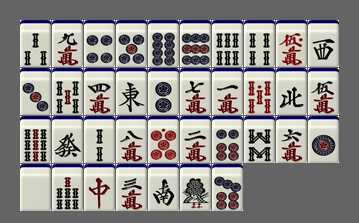0m: (276, 20, 307, 67)
0p: (148, 116, 179, 163)
0s: (244, 68, 275, 115)
1m: (212, 68, 243, 115)
1p: (308, 116, 339, 163)
1s: (180, 164, 211, 211)
1z: (116, 68, 147, 115)
2m: (180, 116, 211, 163)
2p: (148, 68, 179, 115)
2s: (84, 116, 115, 163)
2z: (148, 164, 179, 211)
3m: (116, 164, 147, 211)
3p: (20, 68, 51, 115)
3s: (20, 20, 51, 67)
3z: (308, 20, 339, 67)
4m: (84, 68, 115, 115)
4p: (84, 20, 115, 67)
4s: (244, 20, 275, 67)
4z: (276, 68, 307, 115)
5m: (308, 68, 339, 115)
5p: (116, 20, 147, 67)
5s: (52, 68, 83, 115)
5z: (20, 164, 51, 211)
6m: (276, 116, 307, 163)
6p: (212, 116, 243, 163)
6s: (212, 20, 243, 67)
6z: (52, 116, 83, 163)
7m: (180, 68, 211, 115)
7p: (212, 164, 243, 211)
7s: (52, 164, 83, 211)
7z: (84, 164, 115, 211)
8m: (116, 116, 147, 163)
8p: (148, 20, 179, 67)
8s: (244, 116, 275, 163)
9m: (52, 20, 83, 67)
9p: (180, 20, 211, 67)
9s: (20, 116, 51, 163)
